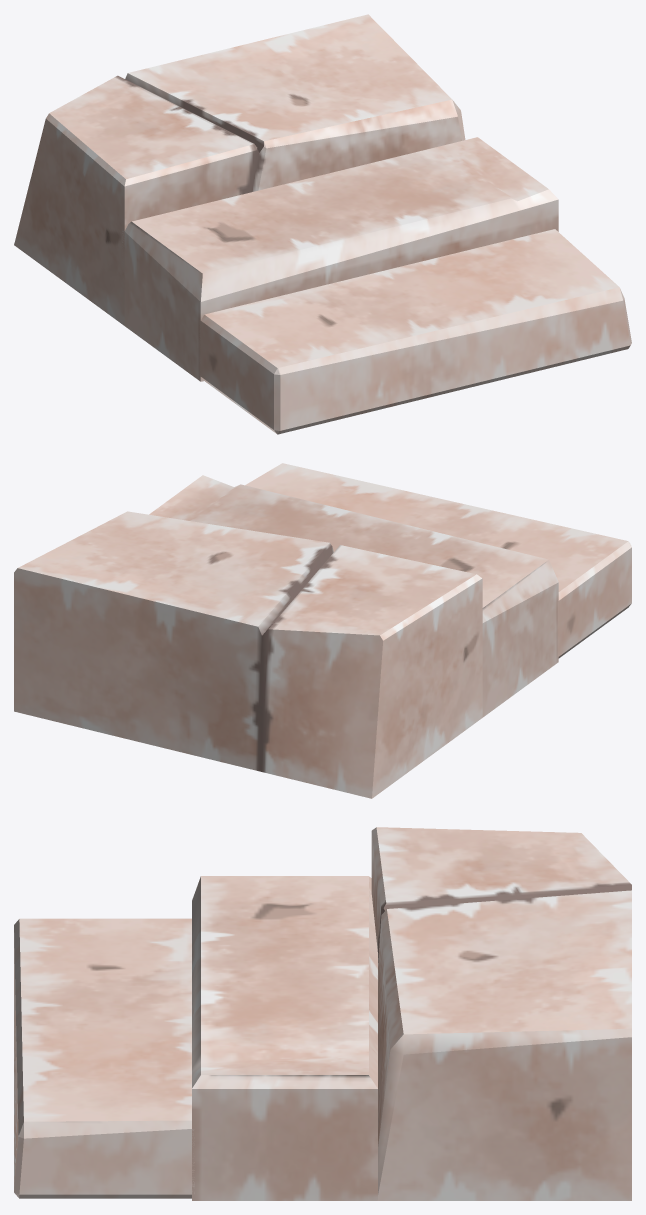
Rendered from Z1_Small_Steps.FBX.
The picture shows the model from 3 angles, top to bottom: view 1: azimuth 30°, elevation 25°; view 2: azimuth 150°, elevation 25°; view 3: azimuth 270°, elevation 25°; orthographic projection. The views are drawn at different scales.
Parts seen in each view (by area): view 1: Z1_Small_Steps; view 2: Z1_Small_Steps; view 3: Z1_Small_Steps.
Boxes of the visible parts, box(x1,y1,x2,y2) form: Z1_Small_Steps: box(14, 14, 631, 434); Z1_Small_Steps: box(14, 463, 631, 798); Z1_Small_Steps: box(14, 827, 631, 1200).
Bounding box in the file's own units: 195 × 75.2 × 248.
